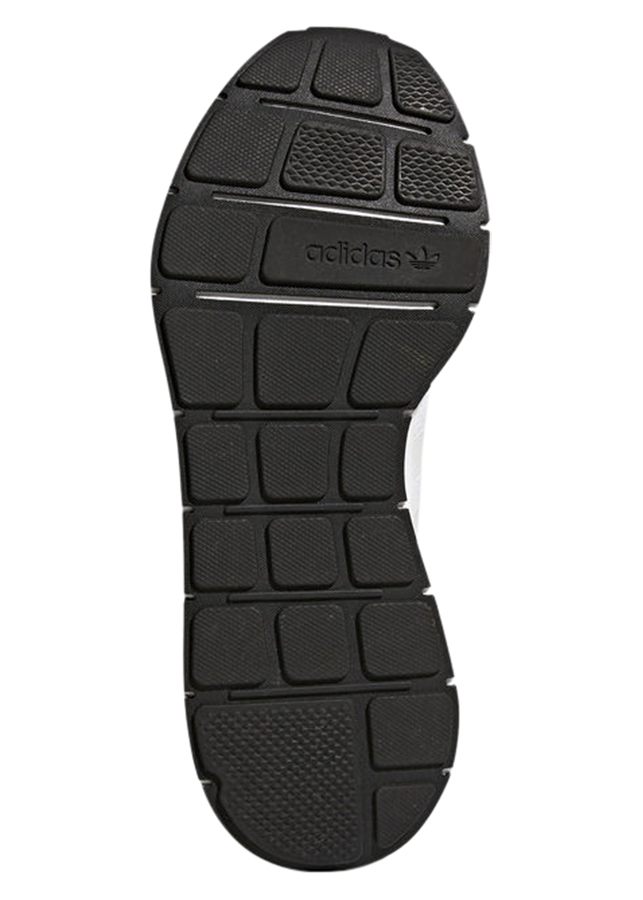Adidas: (299, 231, 447, 275)
